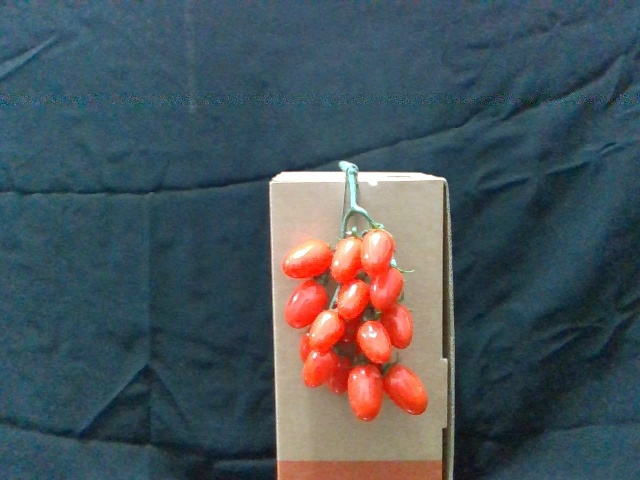tomato: (382, 361, 431, 418), (348, 361, 385, 423), (285, 279, 329, 331), (285, 238, 333, 280), (356, 317, 395, 365), (361, 227, 396, 278), (308, 310, 345, 355), (382, 303, 416, 350), (304, 348, 341, 391), (333, 234, 365, 282), (371, 268, 404, 313), (337, 277, 369, 323)
